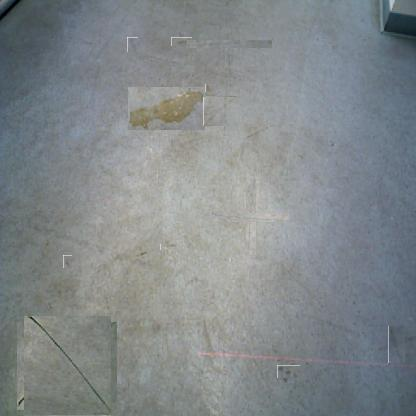liquid: (127, 86, 205, 130), (205, 85, 213, 92)
mark: (21, 319, 115, 413), (206, 20, 252, 68), (229, 196, 273, 238), (203, 96, 236, 126), (383, 331, 411, 358), (244, 124, 276, 146), (203, 317, 219, 355), (280, 362, 298, 381), (174, 34, 189, 49), (184, 1, 198, 15), (126, 38, 139, 51), (62, 256, 73, 267), (163, 242, 174, 253), (137, 247, 147, 258), (328, 139, 338, 149), (48, 302, 52, 310)
